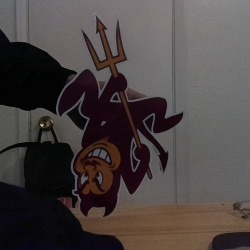sparky: (54, 12, 185, 219)
